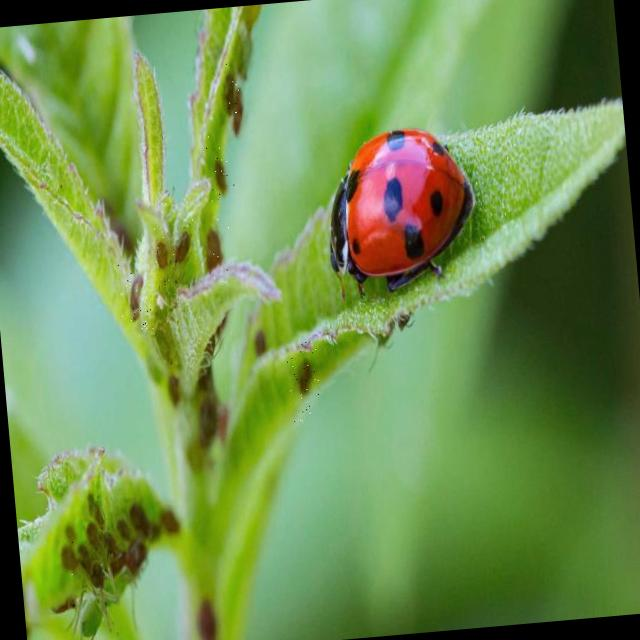aphid: (285, 339, 325, 424), (204, 133, 240, 210), (118, 261, 154, 335), (200, 214, 234, 286), (167, 218, 200, 284), (145, 222, 175, 286), (54, 529, 82, 589), (215, 60, 242, 118), (230, 82, 253, 142)
